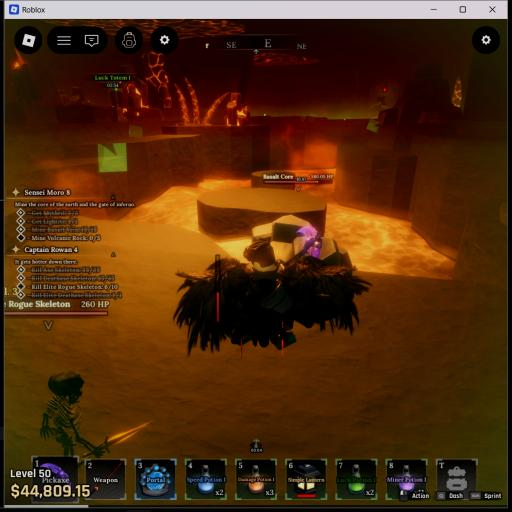player: (173, 226, 370, 354)
rock: (252, 215, 311, 262), (318, 238, 351, 266)
